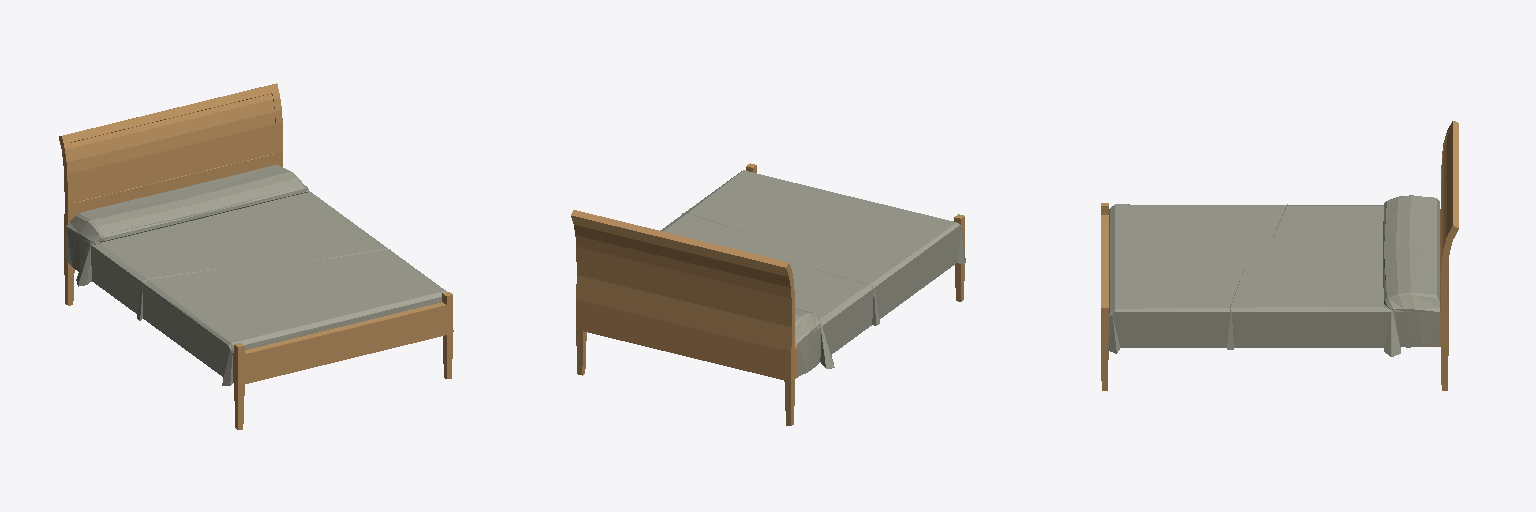
Rendered from bed1.obj.
3 renders of one model, left to right at view 1: azimuth 30°, elevation 25°; view 2: azimuth 150°, elevation 25°; view 3: azimuth 270°, elevation 25°, orthographic.
Visible parts, largest first — view 1: Colcha_Plane.002, bed_Plane; view 2: bed_Plane, Colcha_Plane.002; view 3: Colcha_Plane.002, bed_Plane.
Boxes of the visible parts, x1=… form: Colcha_Plane.002: x1=66, y1=165, x2=453, y2=385; bed_Plane: x1=59, y1=83, x2=452, y2=429; bed_Plane: x1=571, y1=163, x2=964, y2=425; Colcha_Plane.002: x1=660, y1=170, x2=965, y2=376; Colcha_Plane.002: x1=1108, y1=195, x2=1439, y2=356; bed_Plane: x1=1101, y1=121, x2=1458, y2=390.
Bounding box in the file's own units: 1.7 × 1.11 × 2.16.